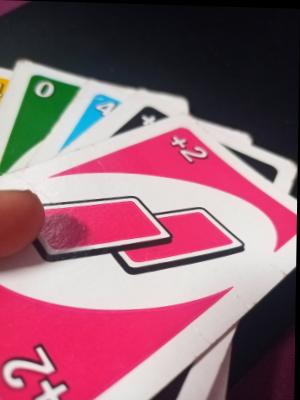-2: (33, 190, 250, 283), (0, 330, 78, 400), (164, 129, 213, 171)
num_0: (26, 71, 60, 108)
num_4: (95, 97, 117, 124)
